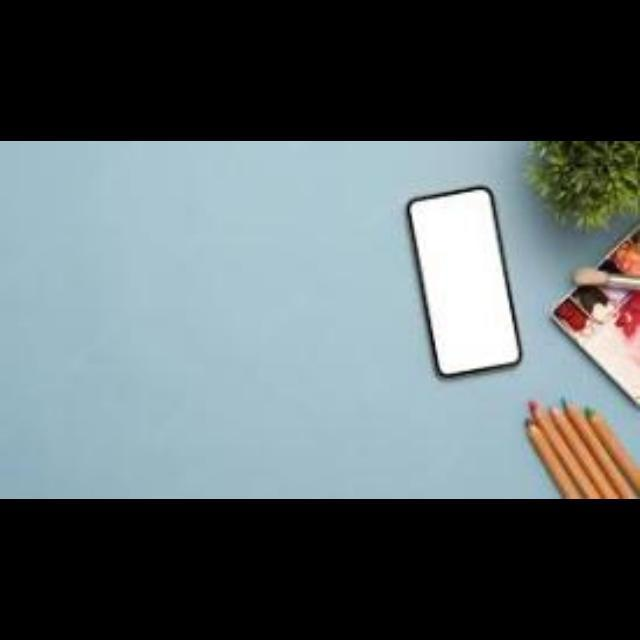PhoneUse: (402, 180, 528, 376)
